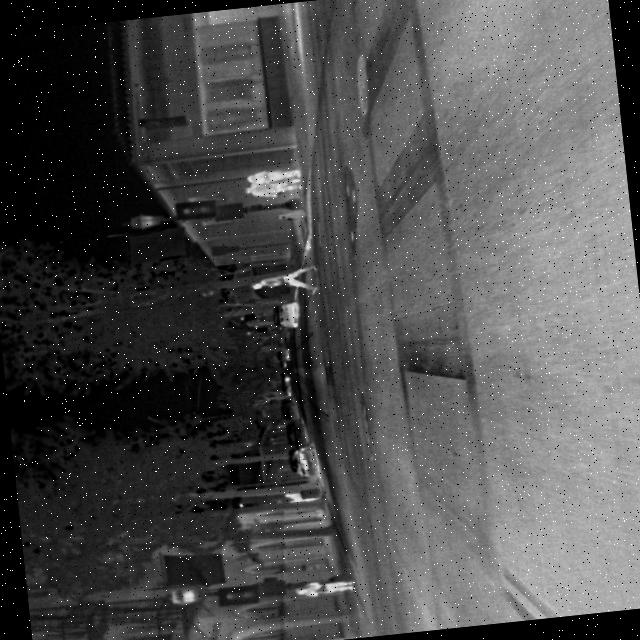Pedestrian: (248, 264, 316, 297), (292, 577, 354, 601), (242, 176, 304, 200), (244, 164, 304, 186)
Vehicle: (286, 442, 320, 479), (270, 298, 300, 331)
